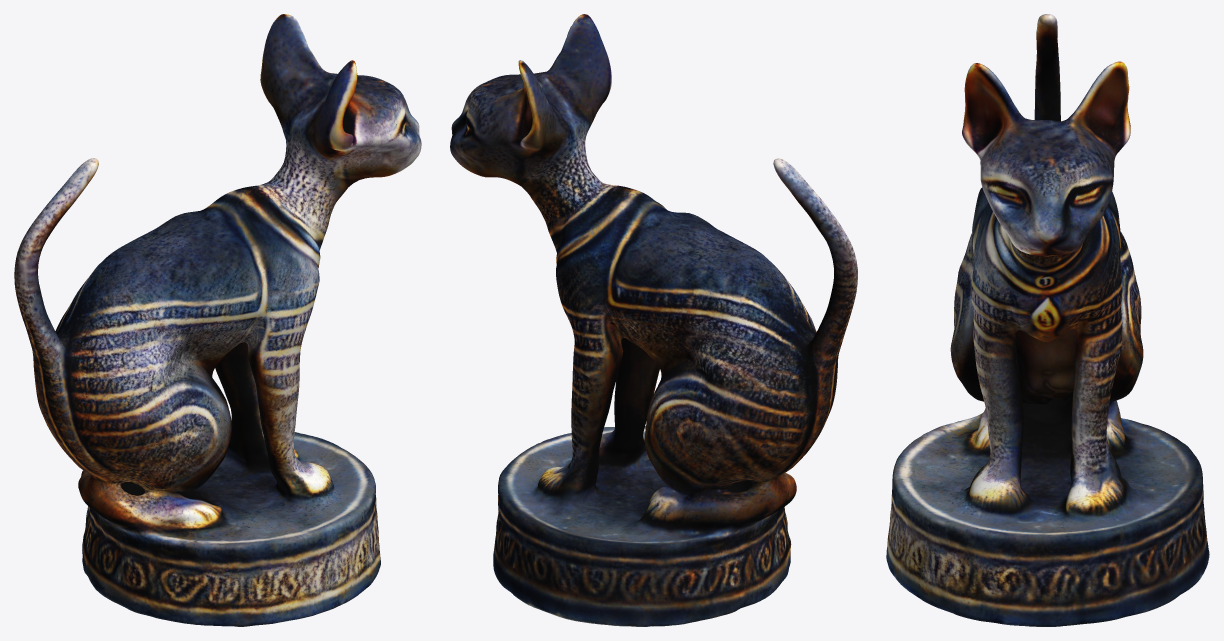
Rendered from King-Sphynx.glb.
3 renders of one model, left to right at view 1: azimuth 30°, elevation 25°; view 2: azimuth 150°, elevation 25°; view 3: azimuth 270°, elevation 25°, orthographic. The views are drawn at different scales.
Parts seen in each view (by area): view 1: high_poly; view 2: high_poly; view 3: high_poly.
Boxes of the visible parts, x1,y1,x2,y2 form: high_poly: (14, 14, 421, 626); high_poly: (450, 14, 857, 626); high_poly: (886, 14, 1209, 626).
Size of the model in its own units: 0.8295 by 1 by 0.5362.
Materials: 1 (1 with a texture image).
